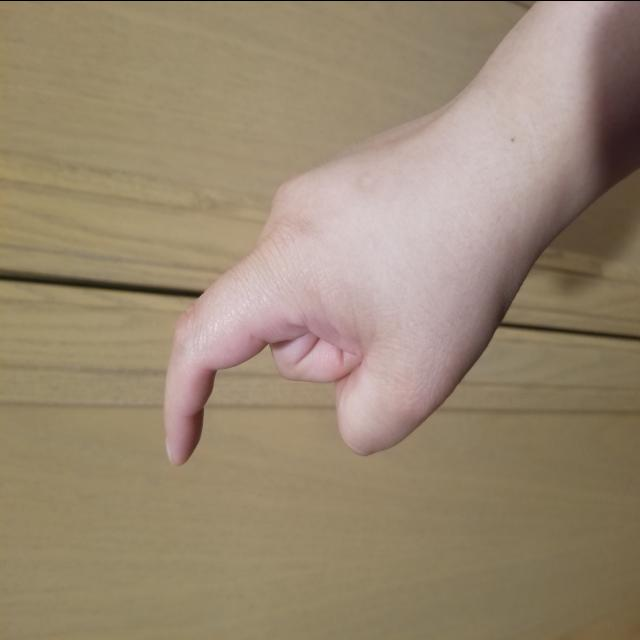X: (160, 90, 550, 472)
